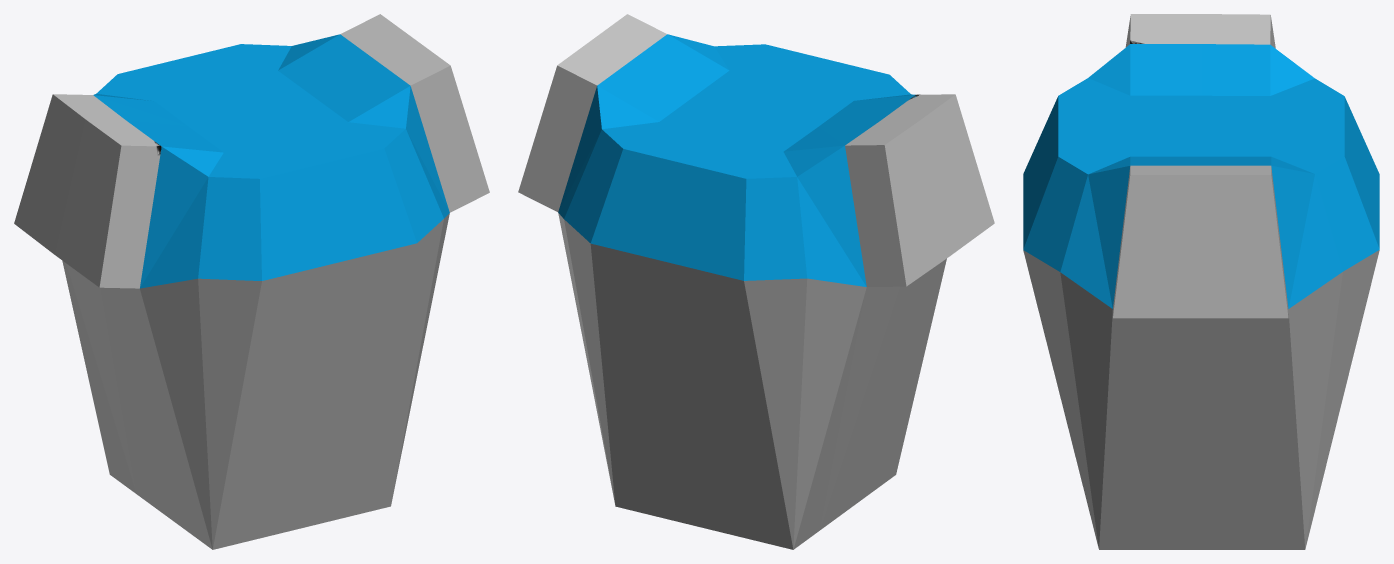
Rendered from playerBody.obj.
3 views of the same model, side by side, from view 1: azimuth 30°, elevation 25°; view 2: azimuth 150°, elevation 25°; view 3: azimuth 270°, elevation 25° (orthographic).
Visible parts, largest first — view 1: 立方体; view 2: 立方体; view 3: 立方体.
Boxes of the visible parts, x1,y1,x2,y2 form: 立方体: [14, 14, 489, 549]; 立方体: [518, 14, 994, 549]; 立方体: [1023, 14, 1379, 549].
Bounding box in the file's own units: 2.16 × 2.18 × 1.71.
Materials: 1 (1 with a texture image).
